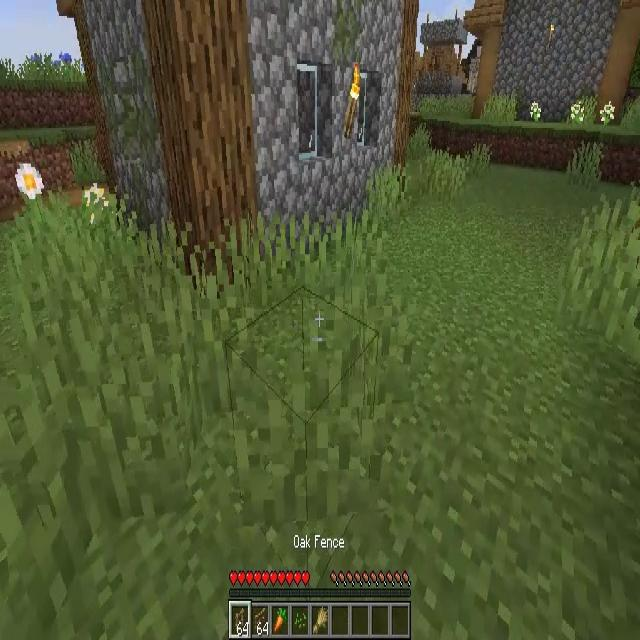flower: (16, 163, 43, 209), (82, 186, 109, 228), (600, 102, 614, 128), (530, 100, 541, 122), (572, 104, 584, 124)
